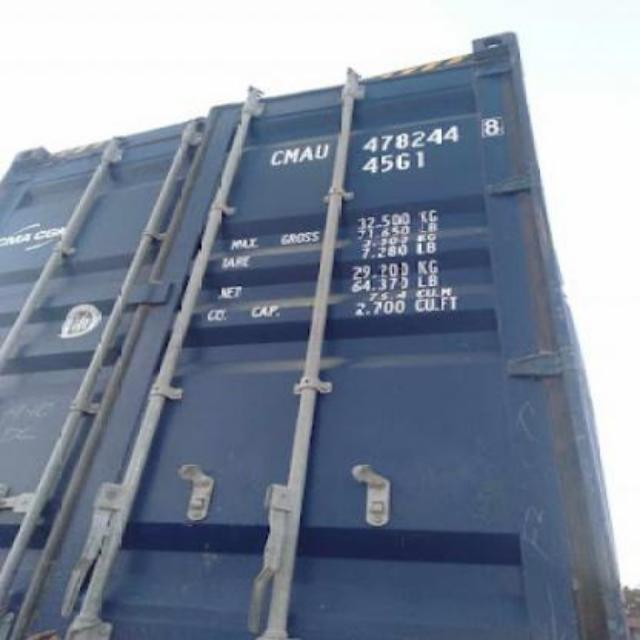2: (410, 130, 428, 146)
4: (442, 124, 462, 142), (362, 135, 378, 153), (426, 127, 444, 143)
7: (378, 134, 394, 154)
8: (480, 117, 500, 135), (394, 132, 408, 150)
A: (304, 146, 314, 160)
C: (270, 149, 284, 165)
M: (282, 148, 300, 162)
U: (316, 146, 332, 158)
